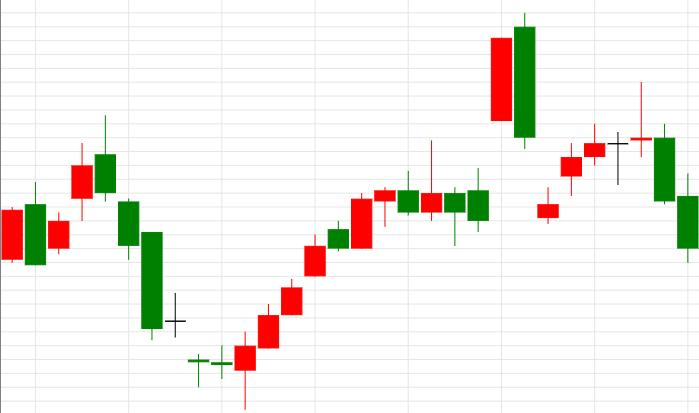three_white_soldiers_rise: (94, 113, 303, 410)
